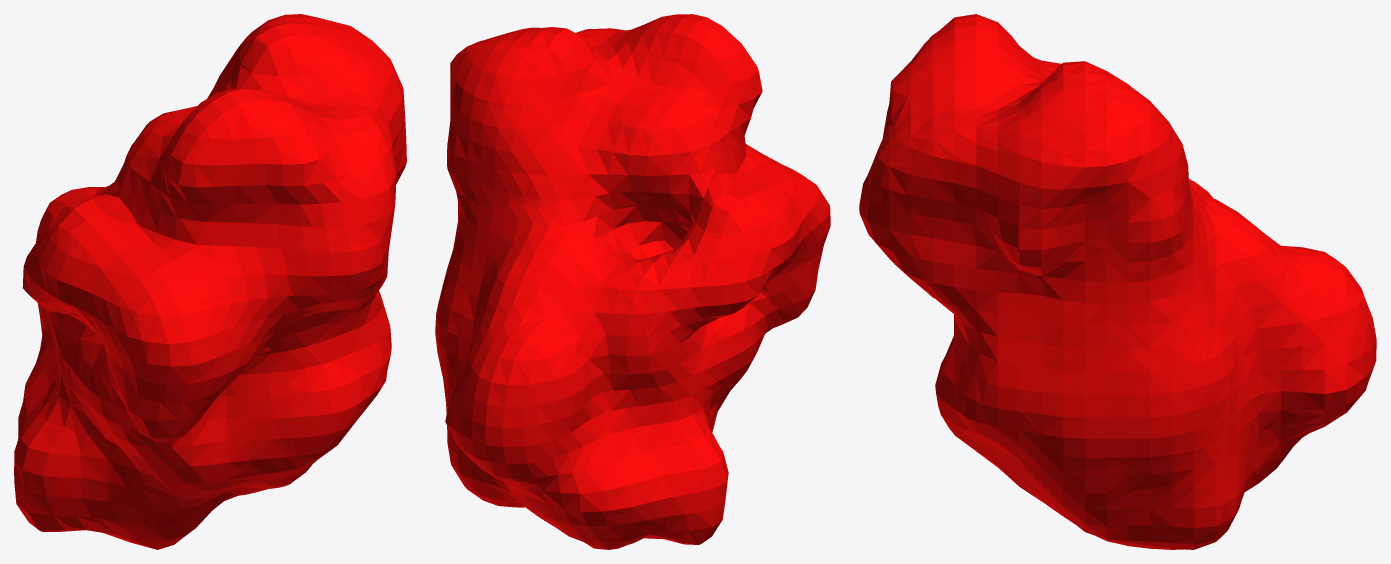
Rendered from tdk_coarse.dae.
3 views of the same model, side by side, from view 1: azimuth 30°, elevation 25°; view 2: azimuth 150°, elevation 25°; view 3: azimuth 270°, elevation 25° (orthographic). The views are drawn at different scales.
Visible parts, largest first — view 1: tdk; view 2: tdk; view 3: tdk.
Boxes of the visible parts, x1,y1,x2,y2 form: tdk: (14, 14, 406, 549); tdk: (435, 14, 830, 549); tdk: (859, 14, 1376, 549).
Bounding box in the file's own units: 39.74 × 54.01 × 50.77.
